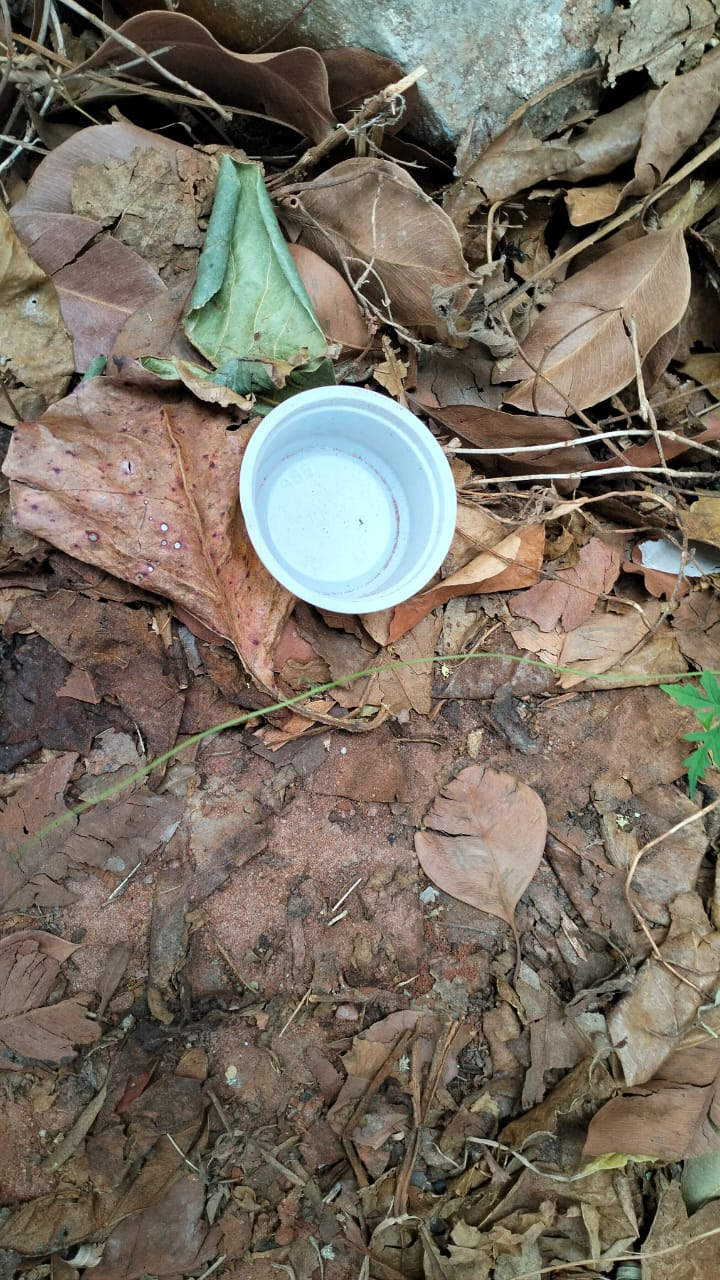pcup: (227, 374, 472, 614)
